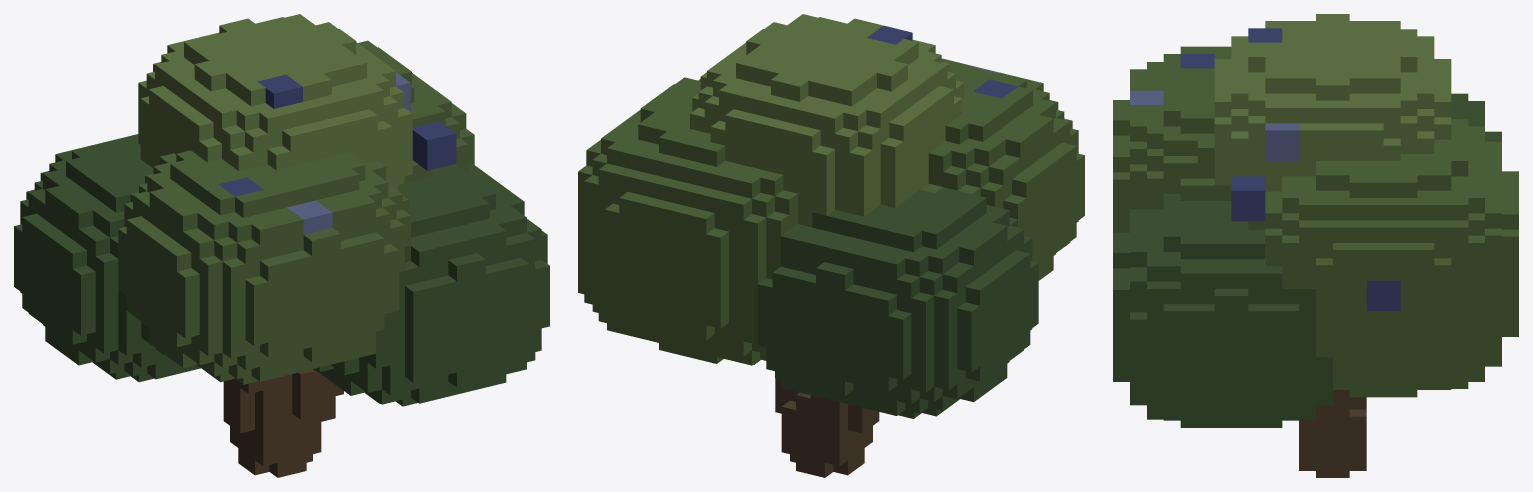
Rendered from bush.glb.
The picture shows the model from 3 angles, left to right: view 1: azimuth 30°, elevation 25°; view 2: azimuth 150°, elevation 25°; view 3: azimuth 270°, elevation 25°; orthographic projection.
Parts seen in each view (by area): view 1: VoxelVisual; view 2: VoxelVisual; view 3: VoxelVisual.
Boxes of the visible parts, <box> form: VoxelVisual: <box>14,14,549,477</box>; VoxelVisual: <box>578,14,1084,477</box>; VoxelVisual: <box>1113,14,1518,477</box>.
Size of what is drawn, in the model's own units: 1.69 by 1.69 by 1.5.
